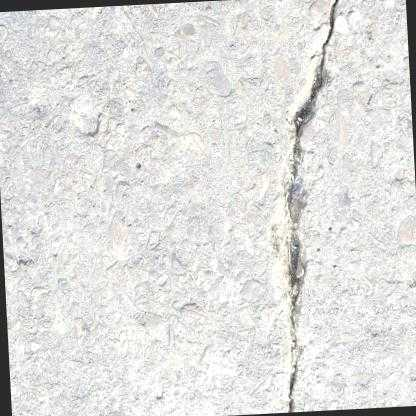crack: (283, 0, 337, 412)
